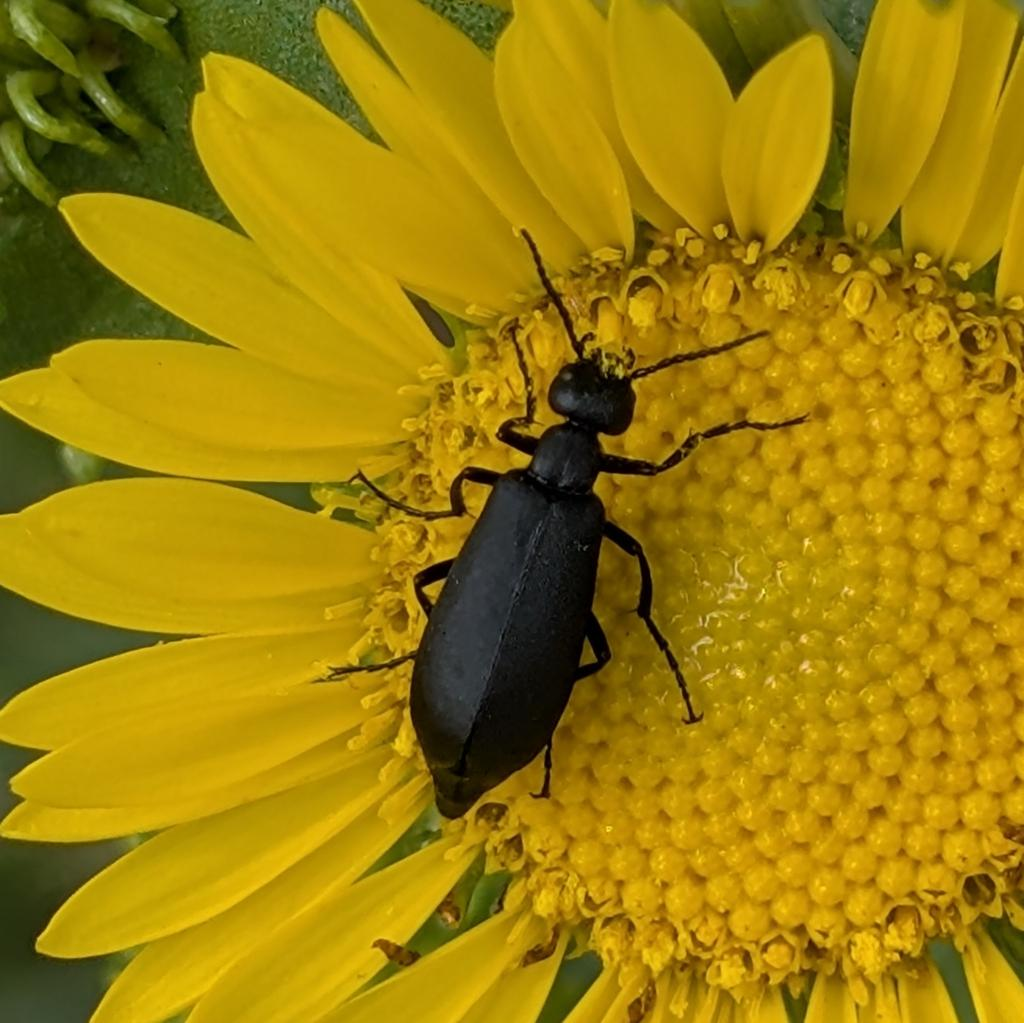blister_beetle: (250, 174, 848, 960)
